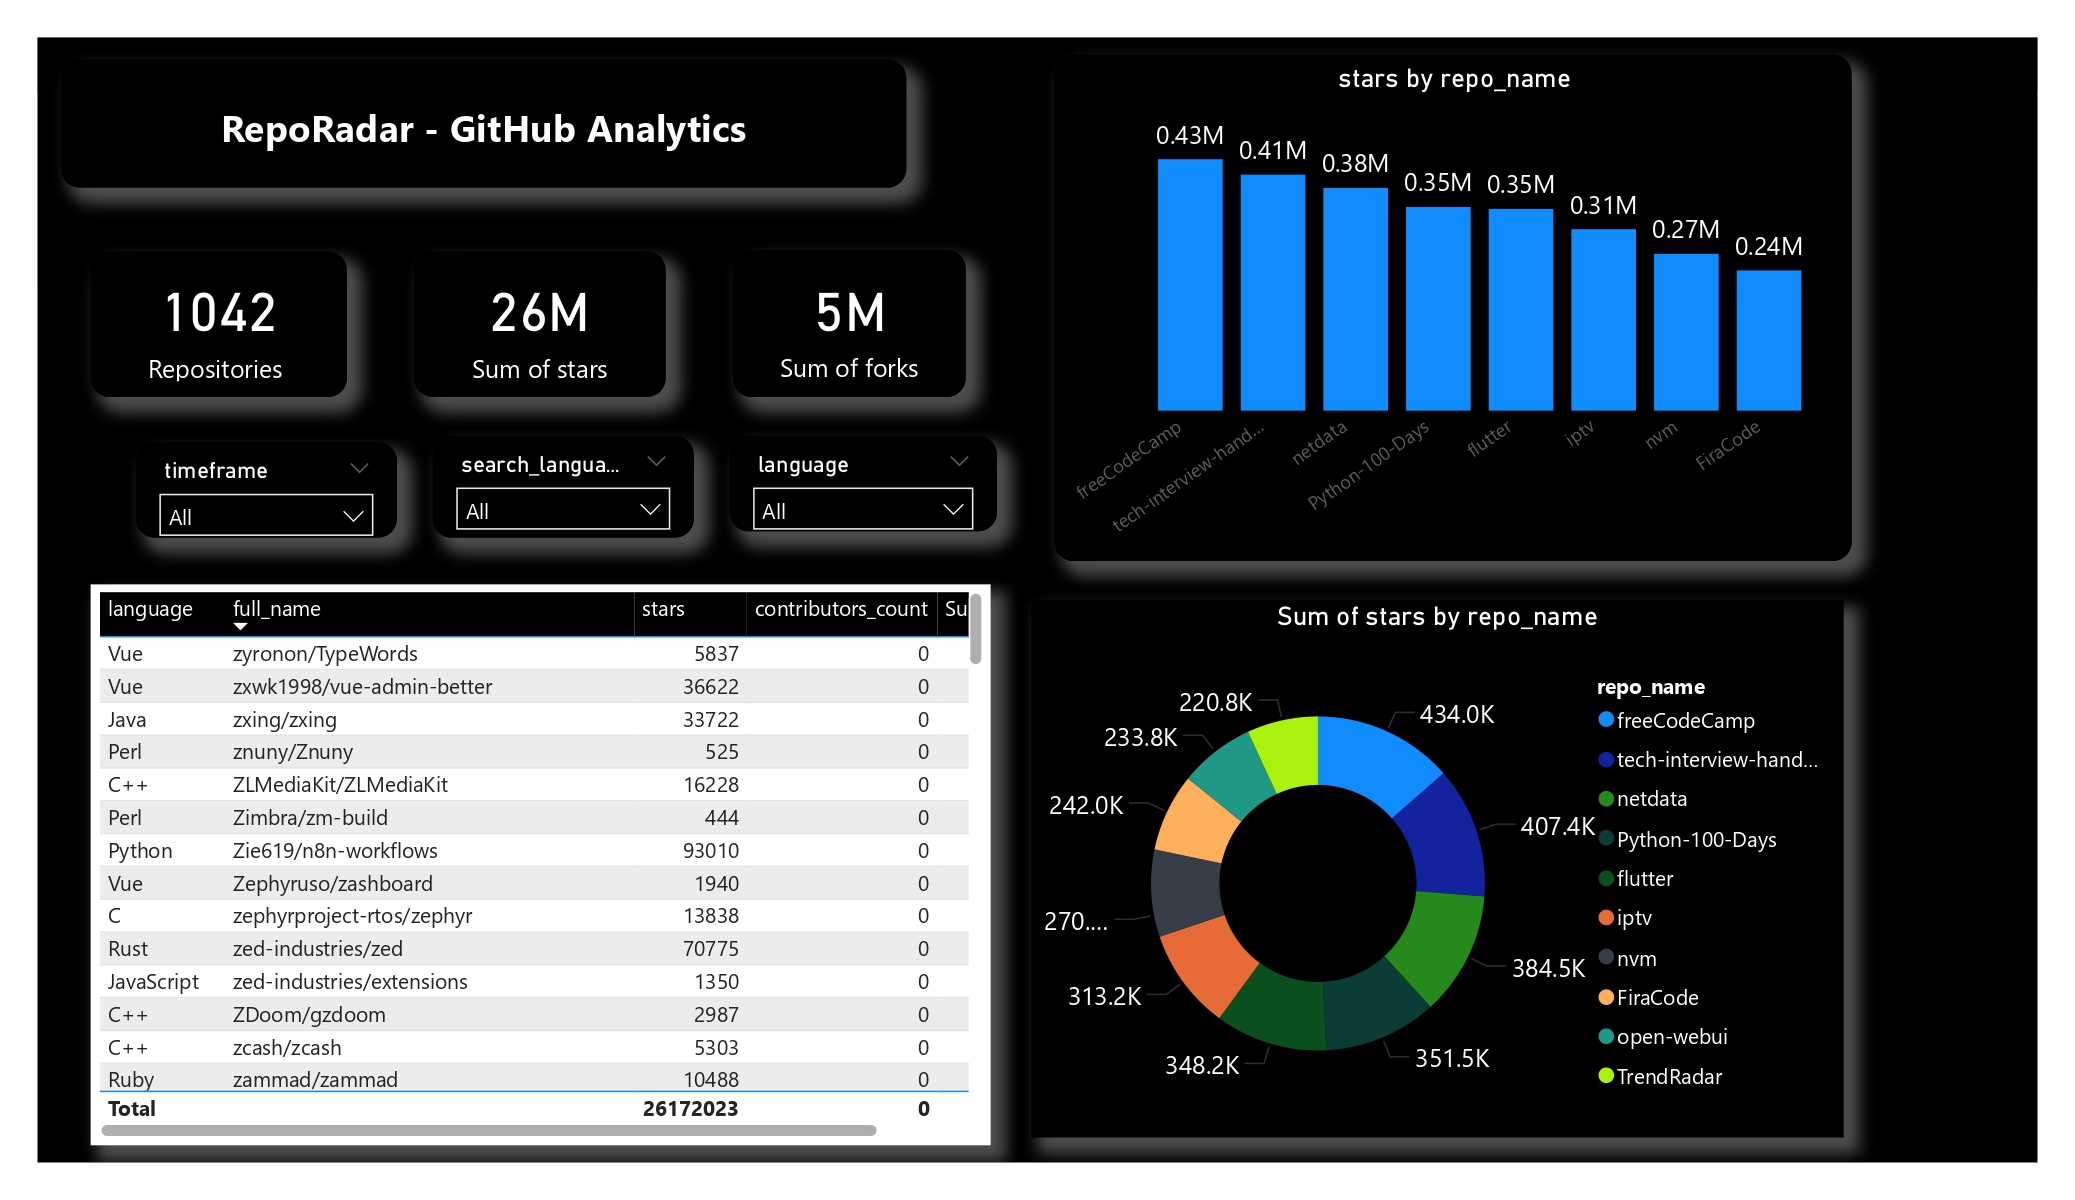

This screenshot's page, from the dashboard's own definition file:
{"tool":"powerbi","page":{"name":"Page 1","canvas":[1280,720],"ordinal":0},"visuals":[{"type":"card","fields":{"Values":["Sum(github_trending_repos.forks)"]},"box":[445,136.2,148.8,93.8],"z":0},{"type":"card","fields":{"Values":["Count(github_trending_repos.repo_name)"]},"box":[33.8,136.5,163.8,93.8],"z":2000},{"type":"card","fields":{"Values":["Sum(github_trending_repos.stars)"]},"box":[240.6,136.5,161.2,93.8],"z":3000},{"type":"columnChart","title":"stars by repo_name","fields":{"Category":["github_trending_repos.repo_name"],"Y":["Sum(github_trending_repos.stars)"]},"box":[651.2,11.2,510,323.8],"z":4000},{"type":"slicer","fields":{"Values":["github_trending_repos.language"]},"box":[442.5,255.2,171.2,61.2],"z":5000},{"type":"slicer","fields":{"Values":["github_trending_repos.search_language"]},"box":[252.5,255.2,167.5,65],"z":6000},{"type":"slicer","fields":{"Values":["github_trending_repos.timeframe"]},"box":[62.5,259,167.5,61.2],"z":7000},{"type":"tableEx","fields":{"Values":["github_trending_repos.language","github_trending_repos.full_name","Sum(github_trending_repos.stars)","Sum(github_trending_repos.contributors_count)","Sum(github_trending_repos.forks)"]},"box":[33.8,350,576.2,358.8],"z":8000},{"type":"textbox","box":[15,13.8,541.2,82.5],"z":9000},{"type":"donutChart","fields":{"Category":["github_trending_repos.repo_name"],"Y":["Sum(github_trending_repos.stars)"]},"box":[636.2,360,520,343.8],"z":10000}]}

Visuals, with their boxes in screenshot pixels (x1, y1, x2, y2):
card - Sum(github_trending_repos.forks): bbox=(733, 250, 965, 397)
card - Count(github_trending_repos.repo_name): bbox=(90, 251, 346, 397)
card - Sum(github_trending_repos.stars): bbox=(413, 251, 665, 397)
"stars by repo_name" columnChart: bbox=(1055, 55, 1852, 561)
slicer - github_trending_repos.language: bbox=(729, 436, 996, 532)
slicer - github_trending_repos.search_language: bbox=(432, 436, 694, 538)
slicer - github_trending_repos.timeframe: bbox=(135, 442, 397, 538)
tableEx - github_trending_repos.language x github_trending_repos.full_name: bbox=(90, 584, 991, 1145)
textbox: bbox=(61, 59, 907, 188)
donutChart - github_trending_repos.repo_name x Sum(github_trending_repos.stars): bbox=(1032, 600, 1844, 1137)
